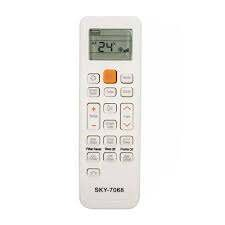remote control: (79, 17, 146, 210)
